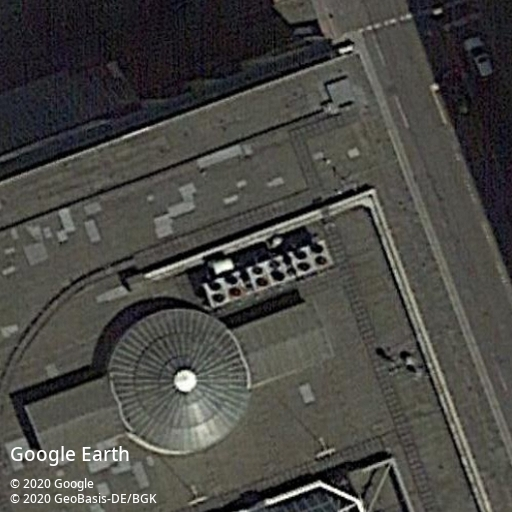Chiller: (287, 239, 335, 279), (202, 269, 248, 308), (246, 253, 289, 292)
